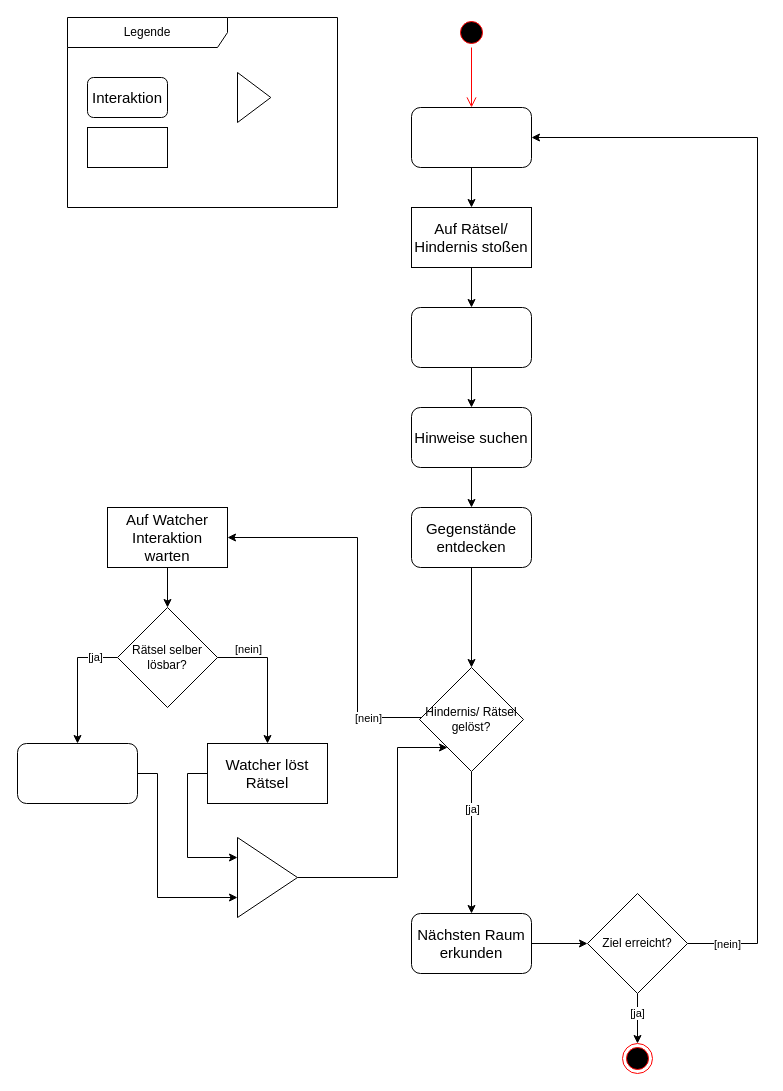
Some shapes in this 783 by 1091 pixel diagram are drawn without their labels. The shapes that lost their labels are listed below. From the top down, each one's box as (x1, y1, x2, y2) in pixels, then its label:
(236, 72, 271, 122): Pfadzusammenschluss
(86, 126, 168, 168): Zustand
(410, 106, 532, 168): Position beschreiben
(410, 306, 532, 368): Hindernis beschreiben
(16, 742, 138, 804): Löse Rätsel
